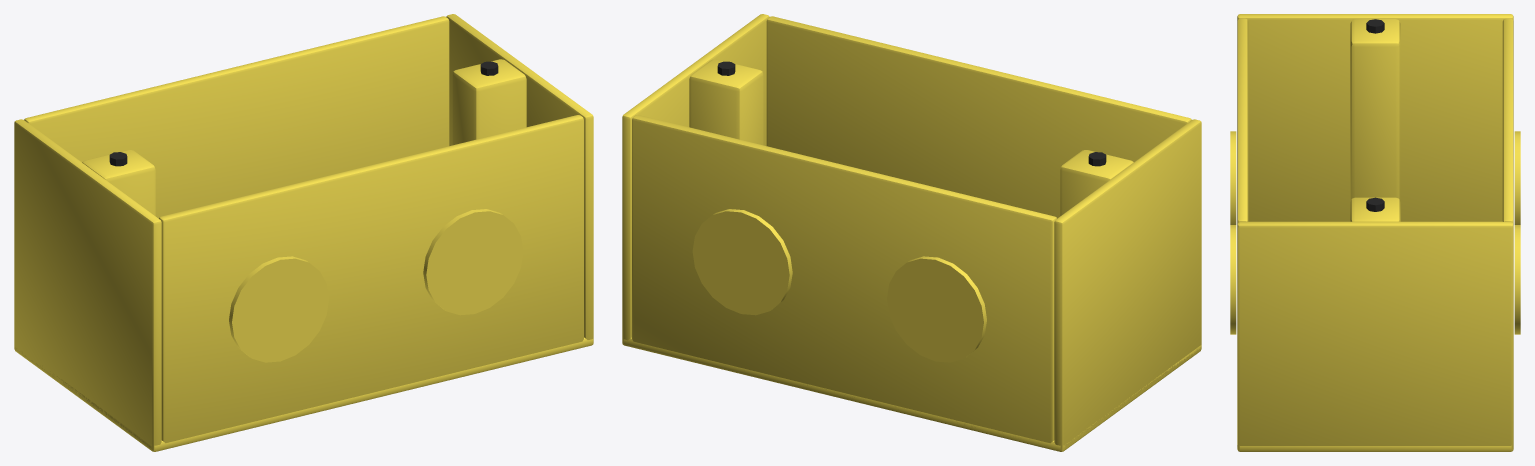
Rendered from ELE-CXA-001.glb.
3 views of the same model, side by side, from view 1: azimuth 30°, elevation 25°; view 2: azimuth 150°, elevation 25°; view 3: azimuth 270°, elevation 25° (orthographic).
Parts seen in each view (by area): view 1: ELE-CXA-001_ly-1, ELE-CXA-001_ly1, ELE-CXA-001_lx-1, ELE-CXA-001_ko-11, ELE-CXA-001_ko-1-1, ELE-CXA-001_lx1, ELE-CXA-001_orelha1, ELE-CXA-001_fundo, ELE-CXA-001_orelha-1; view 2: ELE-CXA-001_ly1, ELE-CXA-001_ly-1, ELE-CXA-001_lx-1, ELE-CXA-001_ko11, ELE-CXA-001_ko1-1, ELE-CXA-001_lx1, ELE-CXA-001_orelha1, ELE-CXA-001_fundo, ELE-CXA-001_orelha-1; view 3: ELE-CXA-001_lx1, ELE-CXA-001_lx-1, ELE-CXA-001_orelha-1, ELE-CXA-001_ly1, ELE-CXA-001_ly-1, ELE-CXA-001_fundo, ELE-CXA-001_orelha1, ELE-CXA-001_ko11, ELE-CXA-001_ko-11, ELE-CXA-001_ko1-1, ELE-CXA-001_ko-1-1.
Boxes of the visible parts, box(x1,y1,x2,y2) form: ELE-CXA-001_ly-1: box(159, 115, 583, 449); ELE-CXA-001_ly1: box(24, 16, 449, 218); ELE-CXA-001_lx-1: box(14, 119, 161, 451); ELE-CXA-001_ko-11: box(423, 209, 523, 315); ELE-CXA-001_ko-1-1: box(229, 256, 328, 362); ELE-CXA-001_lx1: box(446, 14, 593, 346); ELE-CXA-001_orelha1: box(452, 59, 526, 145); ELE-CXA-001_fundo: box(14, 337, 593, 451); ELE-CXA-001_orelha-1: box(82, 150, 155, 215); ELE-CXA-001_ly1: box(632, 115, 1056, 449); ELE-CXA-001_ly-1: box(766, 16, 1191, 218); ELE-CXA-001_lx-1: box(1054, 119, 1201, 451); ELE-CXA-001_ko11: box(692, 209, 792, 315); ELE-CXA-001_ko1-1: box(887, 256, 986, 362); ELE-CXA-001_lx1: box(622, 14, 769, 346); ELE-CXA-001_orelha1: box(689, 59, 763, 145); ELE-CXA-001_fundo: box(623, 337, 1201, 450); ELE-CXA-001_orelha-1: box(1060, 150, 1133, 215); ELE-CXA-001_lx1: box(1237, 221, 1513, 451); ELE-CXA-001_lx-1: box(1237, 14, 1513, 221); ELE-CXA-001_orelha-1: box(1350, 19, 1400, 201); ELE-CXA-001_ly1: box(1502, 18, 1513, 223); ELE-CXA-001_ly-1: box(1237, 18, 1248, 223); ELE-CXA-001_fundo: box(1237, 445, 1511, 451); ELE-CXA-001_orelha1: box(1350, 197, 1400, 221); ELE-CXA-001_ko11: box(1514, 225, 1520, 334); ELE-CXA-001_ko-11: box(1230, 225, 1236, 334); ELE-CXA-001_ko1-1: box(1514, 131, 1520, 224); ELE-CXA-001_ko-1-1: box(1230, 131, 1236, 224).
Bounding box in the file's own units: 0.1 × 0.0515 × 0.0578.
